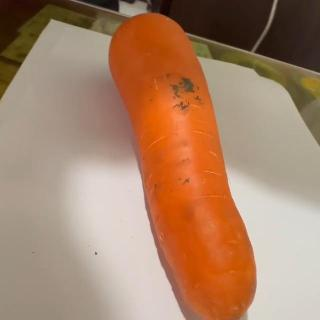carrot: (107, 7, 261, 320)
